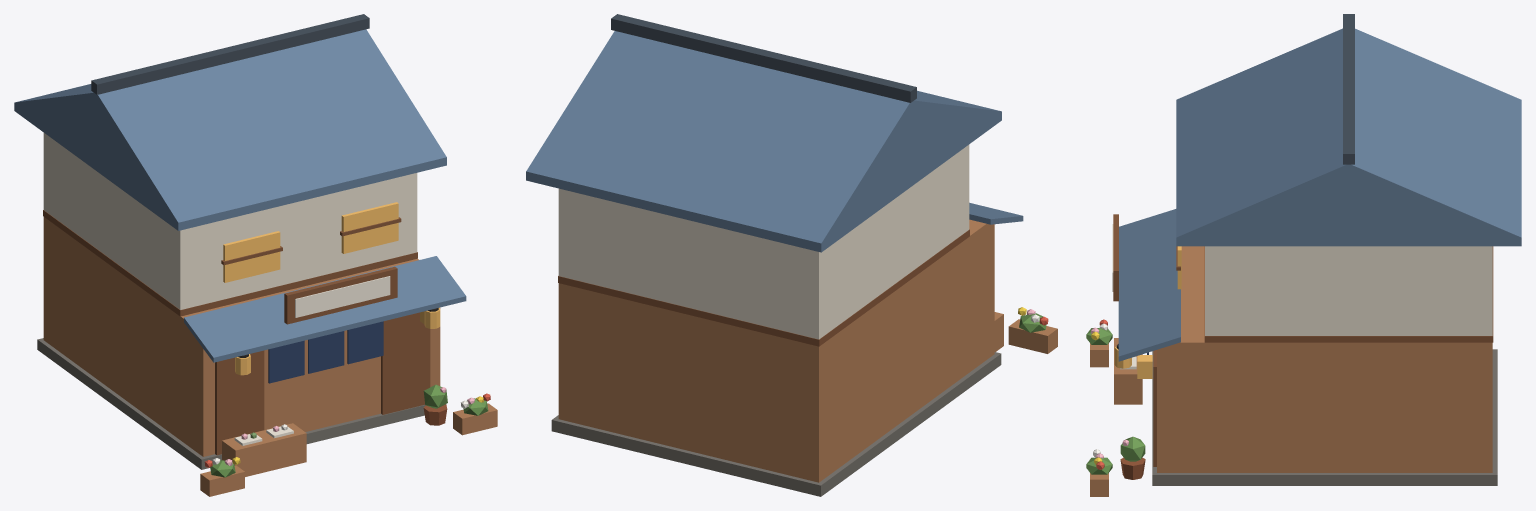
File: chizurudo_s2.fbx
3 renders of one model, left to right at view 1: azimuth 30°, elevation 25°; view 2: azimuth 150°, elevation 25°; view 3: azimuth 270°, elevation 25°, orthographic. The views are drawn at different scales.
Visible parts, largest first — view 1: chizurudo_s2; view 2: chizurudo_s2; view 3: chizurudo_s2.
Part boxes in pixels (box(x1,y1,x2,y2)): chizurudo_s2: box(14, 14, 497, 496); chizurudo_s2: box(526, 14, 1057, 496); chizurudo_s2: box(1086, 14, 1521, 496).
Bounding box in the file's own units: 7.3 × 7.8 × 9.07.
Materials: 2 (2 with a texture image).
